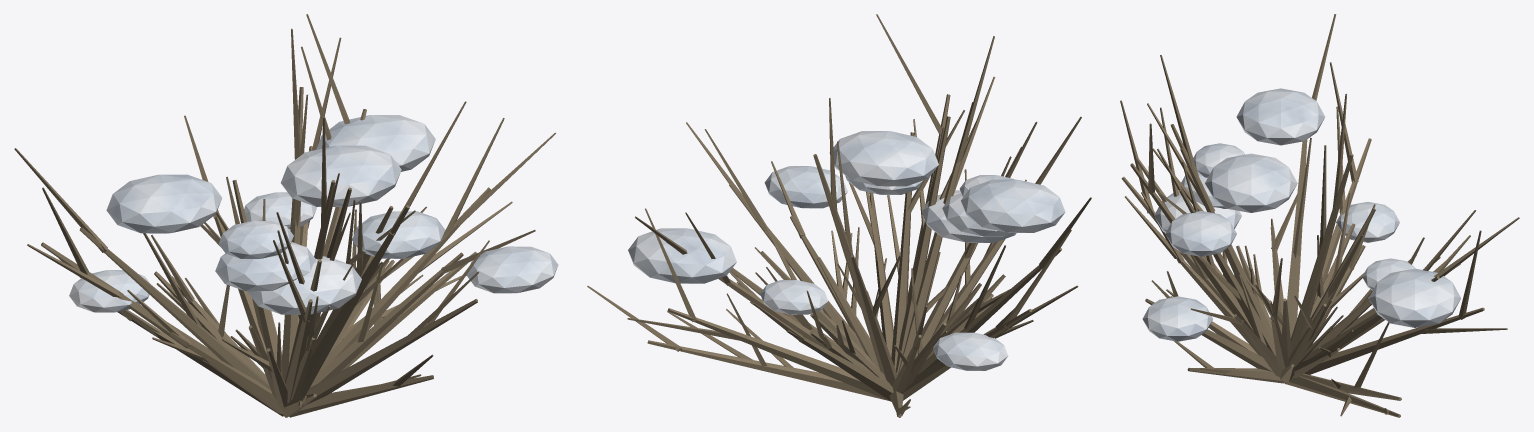
File: snowy-dry-bush-v01.glb
The picture shows the model from 3 angles, left to right: view 1: azimuth 30°, elevation 25°; view 2: azimuth 150°, elevation 25°; view 3: azimuth 270°, elevation 25°; orthographic projection. The views are drawn at different scales.
Parts seen in each view (by area): view 1: snowy-dry-bush; view 2: snowy-dry-bush; view 3: snowy-dry-bush.
Part boxes in pixels (x1,y1,x2,y2): snowy-dry-bush: [14, 14, 558, 417]; snowy-dry-bush: [587, 14, 1091, 417]; snowy-dry-bush: [1120, 14, 1519, 417].
Size of the model in its own units: 2.33 by 1.52 by 1.76.
Materials: 2 (1 with a texture image).
